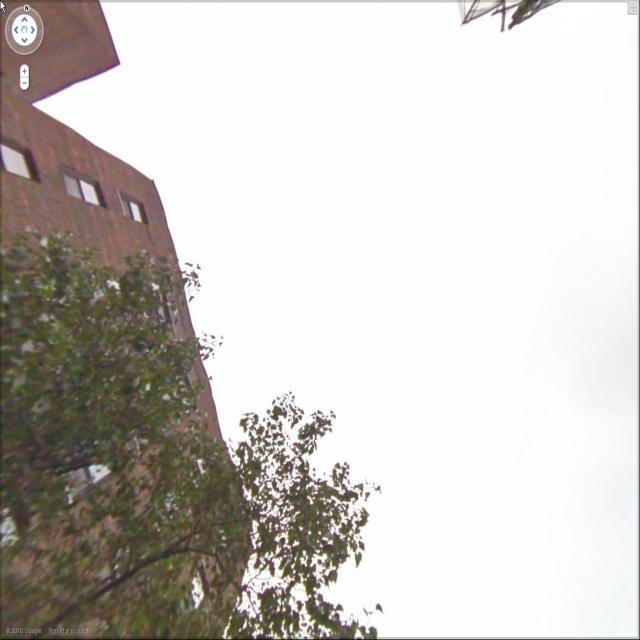b_2: (0, 78, 265, 636)
